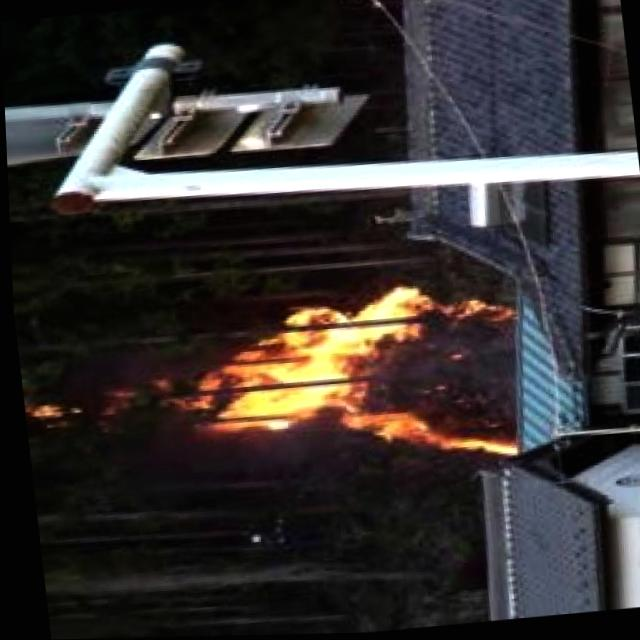Fire: (87, 291, 518, 488)
